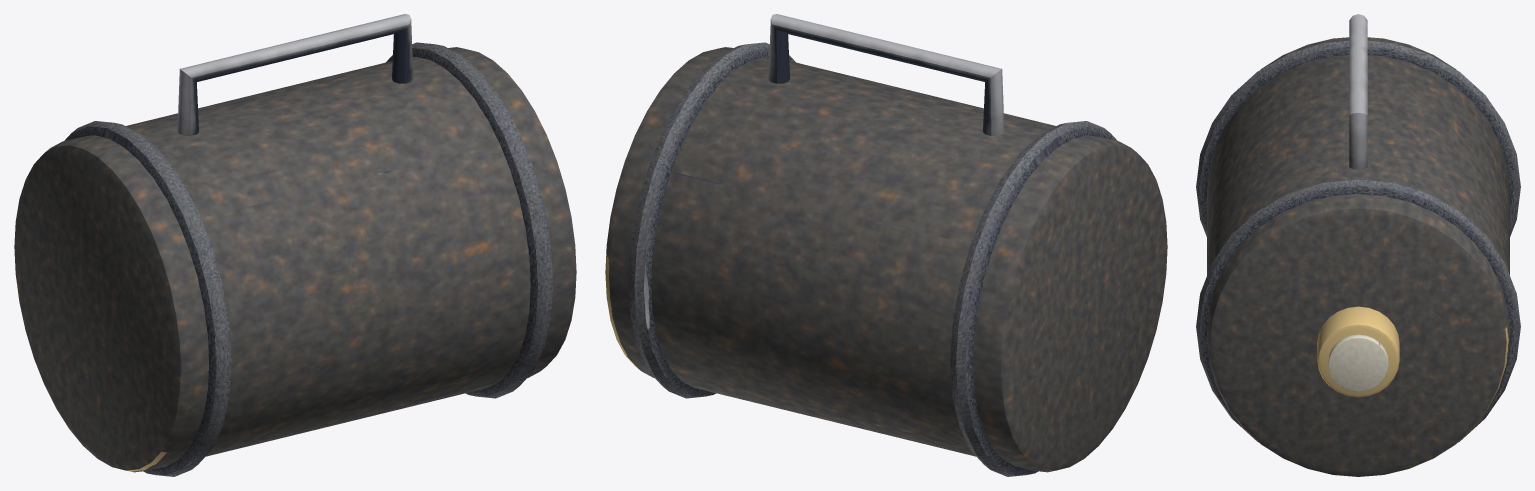
Rendered from depthcharge.glb.
3 views of the same model, side by side, from view 1: azimuth 30°, elevation 25°; view 2: azimuth 150°, elevation 25°; view 3: azimuth 270°, elevation 25° (orthographic). The views are drawn at different scales.
Parts seen in each view (by area): view 1: drum, rim-0.12, rim0.12, handle; view 2: drum, rim-0.12, rim0.12, handle; view 3: drum, rim0.12, rim-0.12, pistol, handle, dial.
Boxes of the visible parts, <box> form: drum: <box>14,47,576,472</box>; rim-0.12: <box>64,121,231,476</box>; rim0.12: <box>386,42,553,398</box>; handle: <box>177,14,413,135</box>; drum: <box>605,47,1167,472</box>; rim-0.12: <box>950,121,1117,476</box>; rim0.12: <box>628,42,795,398</box>; handle: <box>768,14,1004,135</box>; drum: <box>1207,37,1509,476</box>; rim0.12: <box>1196,179,1520,442</box>; rim-0.12: <box>1196,40,1520,236</box>; pistol: <box>1317,306,1399,397</box>; handle: <box>1349,14,1367,169</box>; dial: <box>1328,334,1388,391</box>.
Size of the model in its own units: 0.336 by 0.2729 by 0.236.
Materials: 1 (1 with a texture image).
